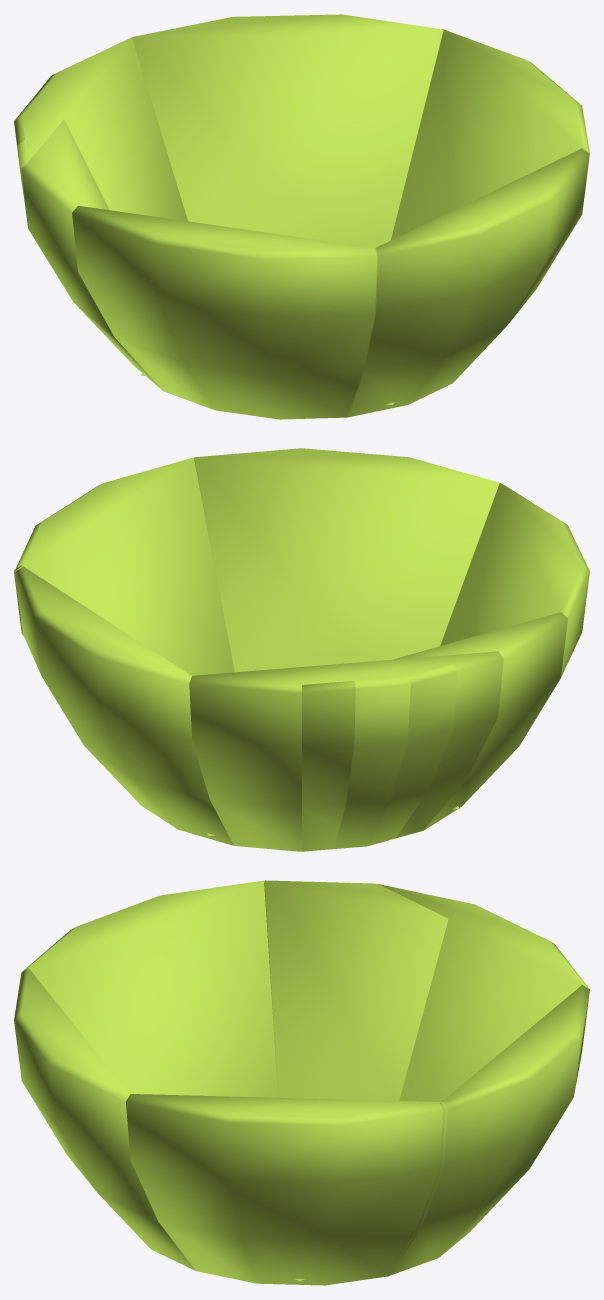
The model's file is plate2_convex.fbx.
3 views of the same model, one above another, from view 1: azimuth 30°, elevation 25°; view 2: azimuth 150°, elevation 25°; view 3: azimuth 270°, elevation 25° (orthographic).
Visible parts, largest first — view 1: plate2_convex.004, plate2_convex.001, plate2_convex.002, plate2_convex.003, plate2_convex.005, plate2_convex; view 2: plate2_convex.002, plate2_convex.005, plate2_convex.003, plate2_convex.004, plate2_convex, plate2_convex.001; view 3: plate2_convex.003, plate2_convex.001, plate2_convex, plate2_convex.004, plate2_convex.005, plate2_convex.002.
Boxes of the visible parts, left/top/right/bottom form: plate2_convex.004: left=132, top=14, right=447, bottom=247; plate2_convex.001: left=72, top=205, right=377, bottom=419; plate2_convex.002: left=347, top=148, right=589, bottom=417; plate2_convex.003: left=391, top=29, right=589, bottom=240; plate2_convex.005: left=14, top=37, right=187, bottom=229; plate2_convex: left=14, top=73, right=162, bottom=390; plate2_convex.002: left=194, top=448, right=503, bottom=672; plate2_convex.005: left=189, top=651, right=503, bottom=851; plate2_convex.003: left=14, top=457, right=234, bottom=676; plate2_convex.004: left=14, top=565, right=233, bottom=845; plate2_convex: left=302, top=612, right=567, bottom=851; plate2_convex.001: left=440, top=483, right=589, bottom=737; plate2_convex.003: left=126, top=1094, right=447, bottom=1285; plate2_convex.001: left=22, top=880, right=278, bottom=1097; plate2_convex: left=264, top=880, right=550, bottom=1100; plate2_convex.004: left=387, top=985, right=589, bottom=1276; plate2_convex.005: left=378, top=884, right=589, bottom=1101; plate2_convex.002: left=14, top=968, right=195, bottom=1270.
Bounding box in the file's own units: 3.71 × 3.72 × 1.52.
